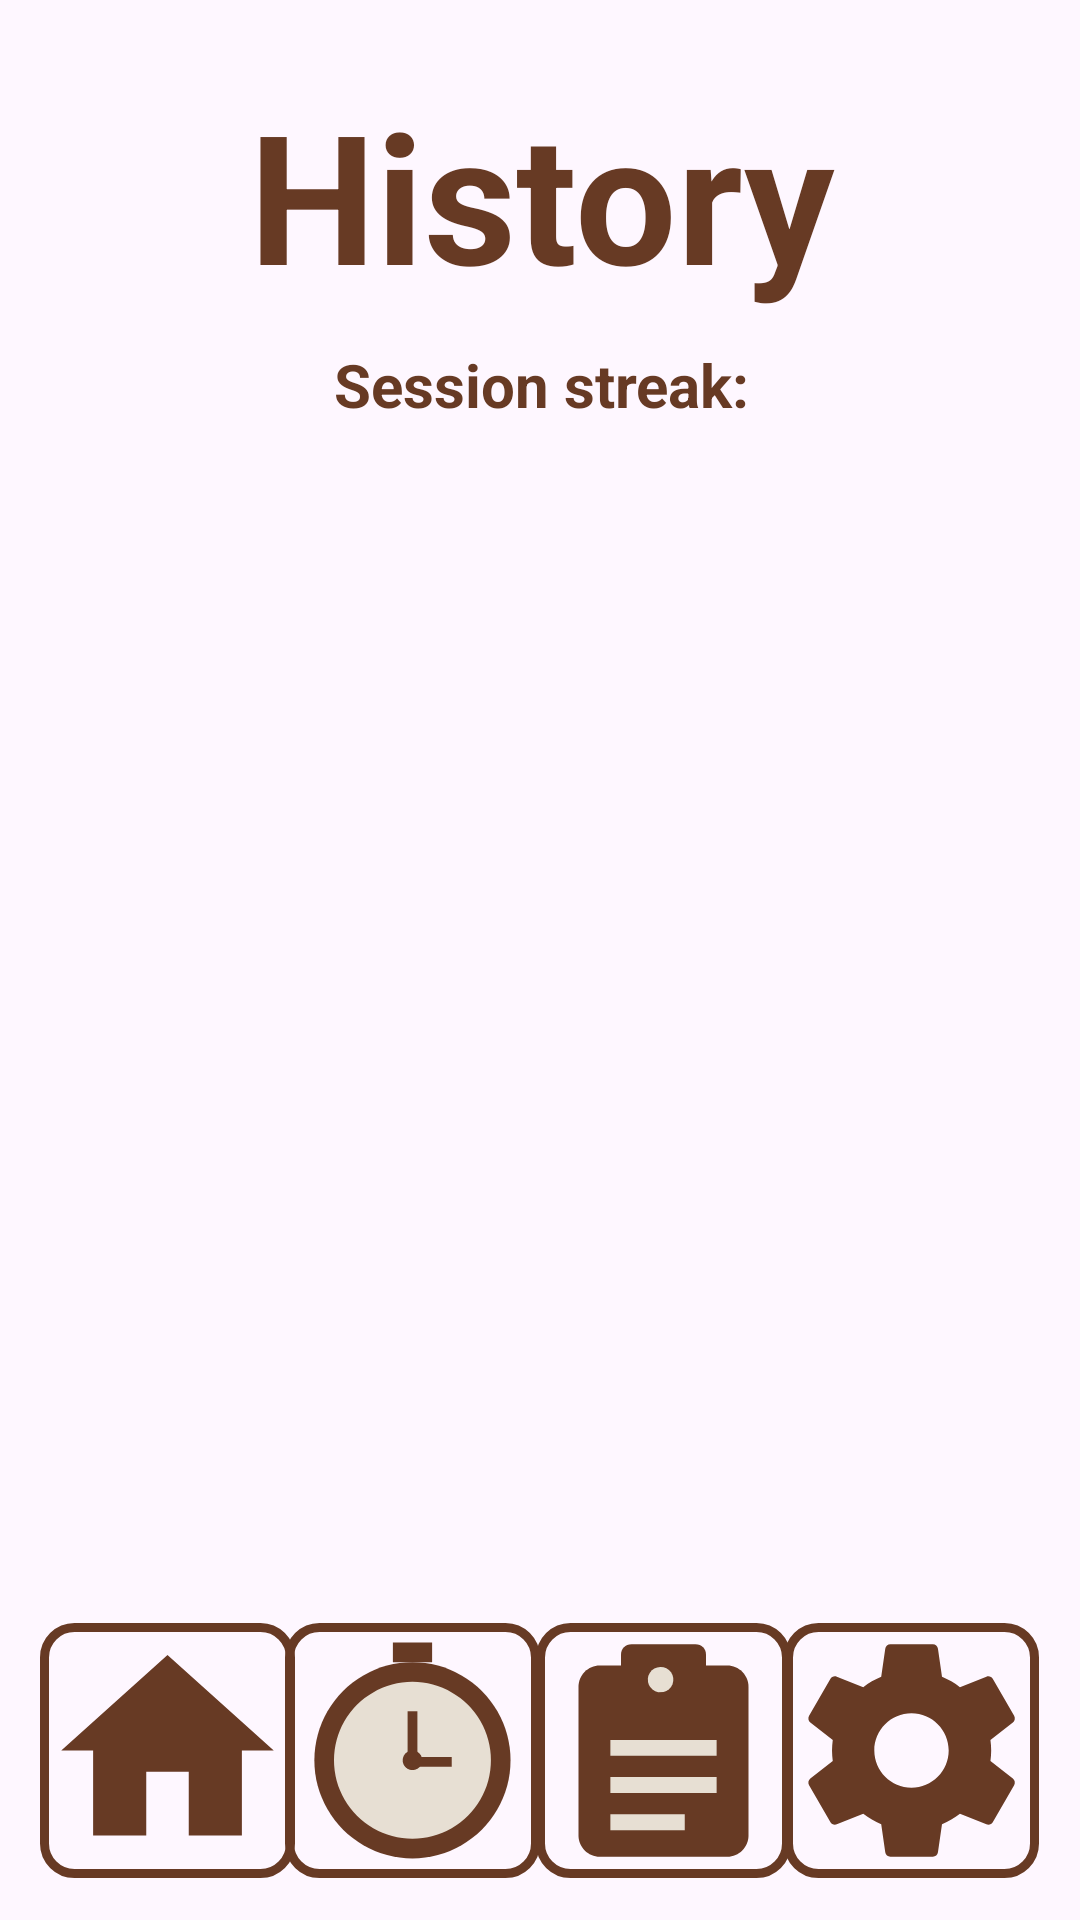

Where to tap for icons on this 1080w x 1920h app screen, as point (x, y):
homebutton: point (167, 1745)
settingsbutton: point (911, 1750)
